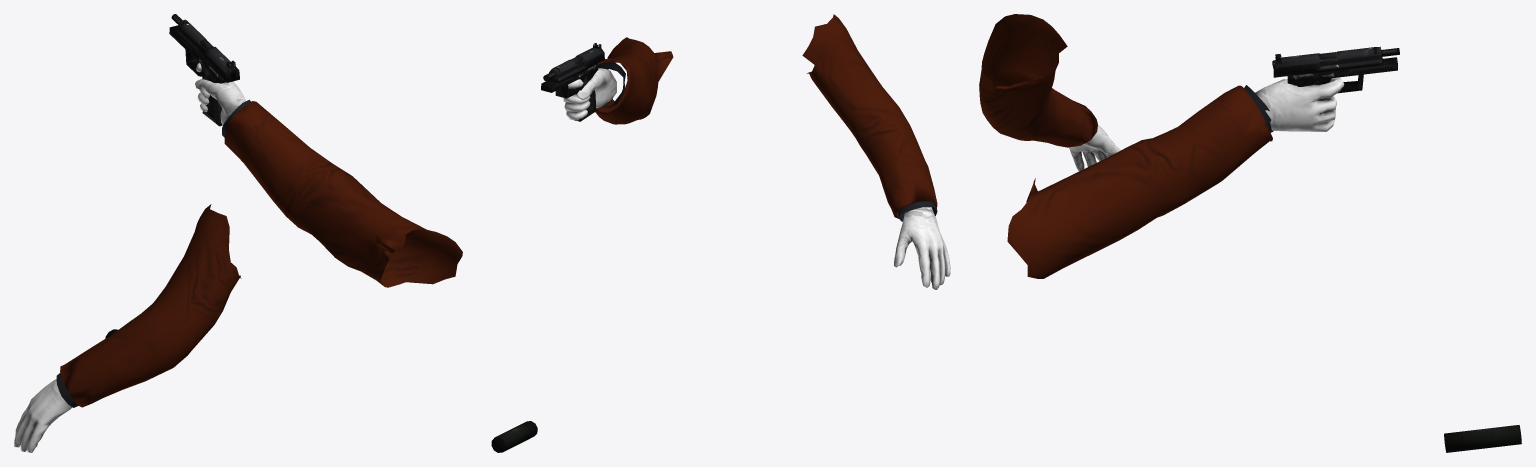
Rendered from frame_0002.obj.
3 renders of one model, left to right at view 1: azimuth 30°, elevation 25°; view 2: azimuth 150°, elevation 25°; view 3: azimuth 270°, elevation 25°, orthographic. The views are drawn at different scales.
Parts seen in each view (by area): view 1: PlayerModelMerged.001_PlayerModelMerged, glock_reference.001; view 2: PlayerModelMerged.001_PlayerModelMerged, glock_reference.001; view 3: PlayerModelMerged.001_PlayerModelMerged, glock_reference.001.
Boxes of the visible parts, box(x1,y1,x2,y2) form: PlayerModelMerged.001_PlayerModelMerged: box(14, 62, 462, 452); glock_reference.001: box(105, 14, 239, 338); PlayerModelMerged.001_PlayerModelMerged: box(563, 14, 950, 289); glock_reference.001: box(491, 43, 604, 452); PlayerModelMerged.001_PlayerModelMerged: box(979, 14, 1344, 278); glock_reference.001: box(1272, 46, 1521, 452).
Size of the model in its own units: 1.14 by 1.03 by 1.24.
